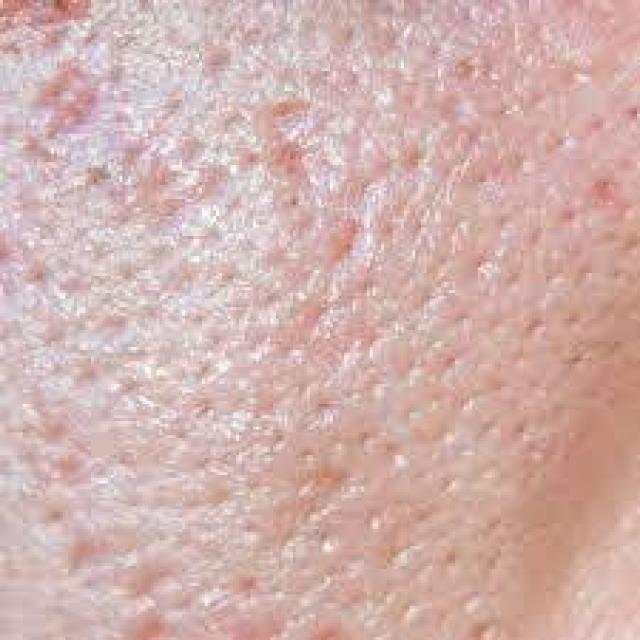pores: (88, 82, 451, 586)
